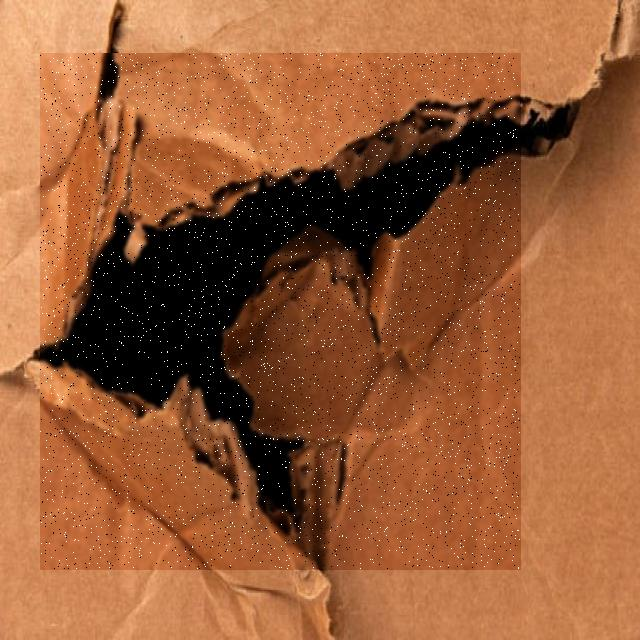leakage: (41, 54, 520, 569)
